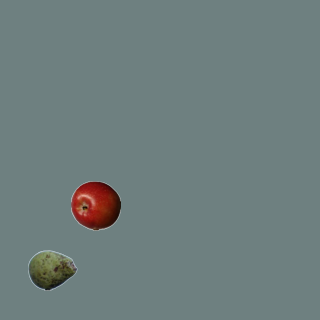Apple Braeburn: (70, 180, 120, 230)
Pear Stone: (27, 245, 77, 295)
